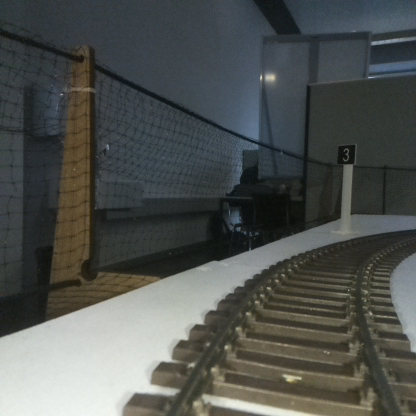black-info-3: (337, 145, 355, 234)
